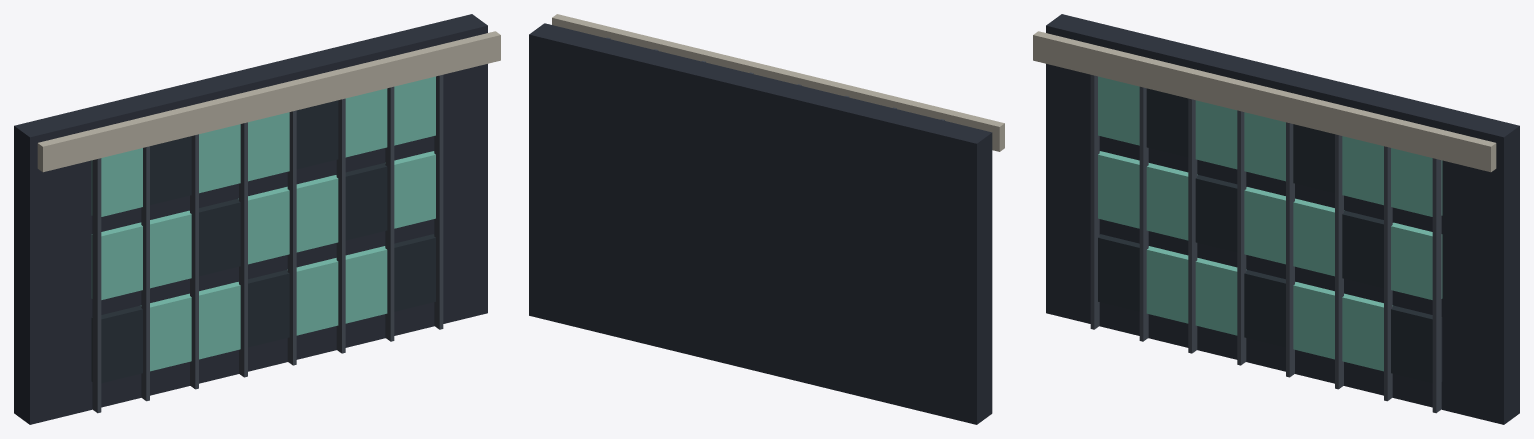
Rendered from status_board.glb.
3 renders of one model, left to right at view 1: azimuth 30°, elevation 25°; view 2: azimuth 150°, elevation 25°; view 3: azimuth 330°, elevation 25°, orthographic. The views are drawn at different scales.
Parts seen in each view (by area): view 1: status_board; view 2: status_board; view 3: status_board.
Boxes of the visible parts, x1,y1,x2,y2 form: status_board: (14,14,500,424); status_board: (529,14,1004,424); status_board: (1033,14,1519,424).
Bounding box in the file's own units: 1.5 × 0.9 × 0.163.
